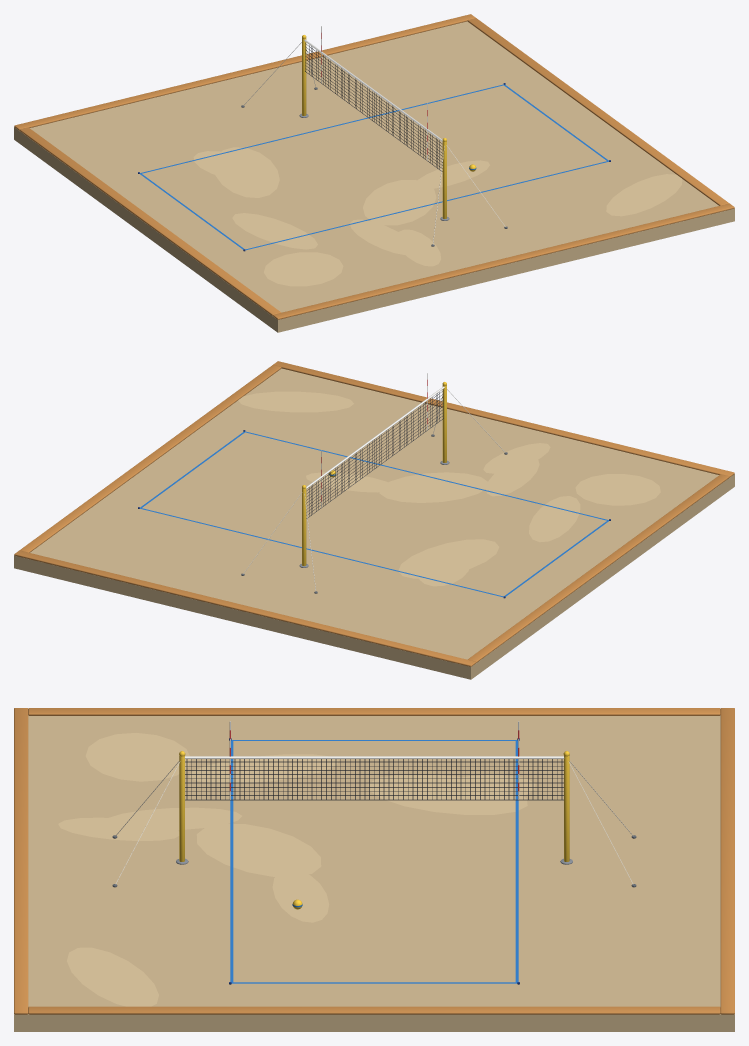
File: quadra_volei_areia.glb
3 renders of one model, top to bottom at view 1: azimuth 30°, elevation 25°; view 2: azimuth 150°, elevation 25°; view 3: azimuth 270°, elevation 25°, orthographic. The views are drawn at different scales.
Visible parts, largest first — view 1: quadra_volei_areia; view 2: quadra_volei_areia; view 3: quadra_volei_areia.
Part boxes in pixels (<box>): quadra_volei_areia: <box>14,14,734,332</box>; quadra_volei_areia: <box>14,361,734,679</box>; quadra_volei_areia: <box>14,708,734,1031</box>.
Bounding box in the file's own units: 15 × 3.63 × 15.
1 material, 1 textured.
